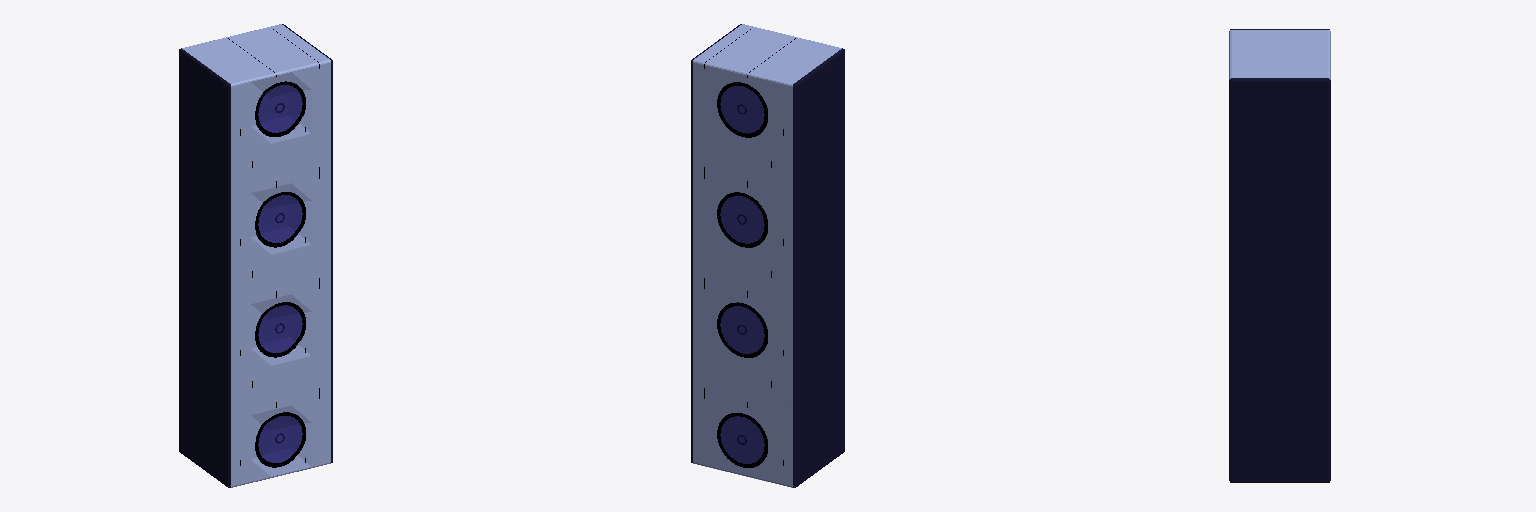
3 views of the same model, side by side, from view 1: azimuth 30°, elevation 25°; view 2: azimuth 150°, elevation 25°; view 3: azimuth 270°, elevation 25° (orthographic).
Parts seen in each view (by area): view 1: ChamferBox001; view 2: ChamferBox001; view 3: ChamferBox001.
Part boxes in pixels (bbox=[...]): ChamferBox001: bbox=[179, 24, 332, 487]; ChamferBox001: bbox=[691, 24, 844, 487]; ChamferBox001: bbox=[1229, 29, 1330, 482].
Size of the model in its own units: 11.81 by 43.31 by 9.84.
1 materials, 1 textured.